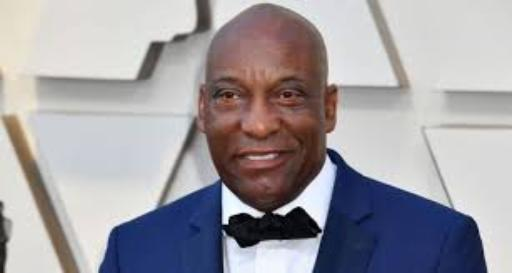left_eye: (274, 92, 308, 103)
left_lip_corner: (286, 149, 300, 159)
right_eye: (214, 91, 244, 104)
right_lip_corner: (232, 152, 244, 162)
